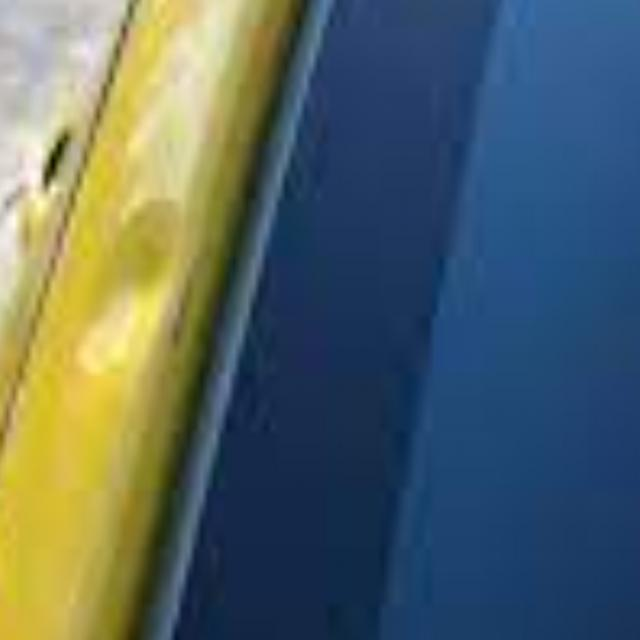dents: (72, 194, 207, 396)
